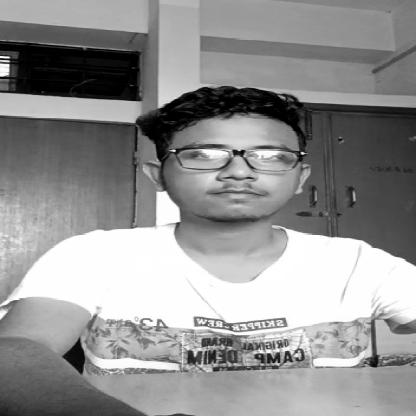Normal: (146, 92, 306, 221)
